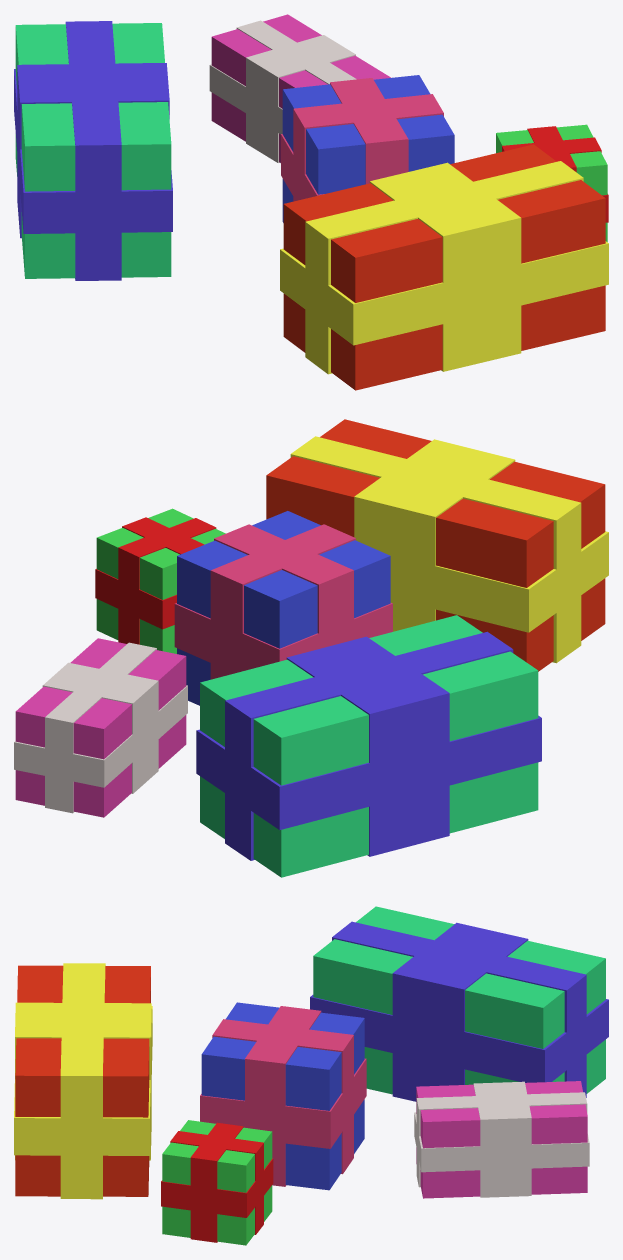
File: gifts.glb
The picture shows the model from 3 angles, top to bottom: view 1: azimuth 30°, elevation 25°; view 2: azimuth 150°, elevation 25°; view 3: azimuth 270°, elevation 25°; orthographic projection. The views are drawn at different scales.
Visible parts, largest first — view 1: Yellow Ribbon, Red Present, Blue Ribbon, Light Green Present, Blue Present, Pink Ribbon, White Ribbon, Pink Present, Bright Green Present, Red Ribbon; view 2: Blue Ribbon, Light Green Present, Yellow Ribbon, Red Present, Pink Ribbon, White Ribbon, Blue Present, Pink Present, Red Ribbon, Bright Green Present; view 3: Blue Ribbon, Yellow Ribbon, Light Green Present, Red Present, Pink Ribbon, White Ribbon, Blue Present, Pink Present, Red Ribbon, Bright Green Present.
Boxes of the visible parts, left/top/right/bottom form: Yellow Ribbon: left=280, top=161, right=608, bottom=374; Red Present: left=283, top=144, right=605, bottom=390; Blue Ribbon: left=14, top=21, right=172, bottom=280; Light Green Present: left=15, top=23, right=171, bottom=278; Blue Present: left=282, top=75, right=454, bottom=222; Pink Ribbon: left=281, top=78, right=443, bottom=201; White Ribbon: left=209, top=20, right=356, bottom=162; Pink Present: left=211, top=14, right=390, bottom=162; Bright Green Present: left=496, top=124, right=607, bottom=241; Red Ribbon: left=502, top=126, right=608, bottom=222; Blue Ribbon: left=196, top=631, right=541, bottom=860; Light Green Present: left=200, top=615, right=538, bottom=877; Yellow Ribbon: left=290, top=436, right=608, bottom=663; Red Present: left=266, top=419, right=605, bottom=671; Pink Ribbon: left=174, top=524, right=392, bottom=679; White Ribbon: left=14, top=642, right=187, bottom=813; Blue Present: left=177, top=511, right=390, bottom=705; Pink Present: left=15, top=638, right=186, bottom=817; Red Ribbon: left=95, top=517, right=216, bottom=644; Bright Green Present: left=96, top=508, right=225, bottom=653; Blue Ribbon: left=310, top=921, right=608, bottom=1101; Yellow Ribbon: left=14, top=963, right=152, bottom=1199; Light Green Present: left=313, top=906, right=605, bottom=1094; Red Present: left=15, top=965, right=150, bottom=1196; Pink Ribbon: left=200, top=1006, right=366, bottom=1186; White Ribbon: left=414, top=1081, right=589, bottom=1197; Blue Present: left=201, top=1002, right=364, bottom=1190; Pink Present: left=416, top=1081, right=587, bottom=1198; Red Ribbon: left=161, top=1122, right=273, bottom=1242; Bright Green Present: left=162, top=1120, right=272, bottom=1245.
Bounding box in the file's own units: 0.8501 × 0.224 × 0.9756.
